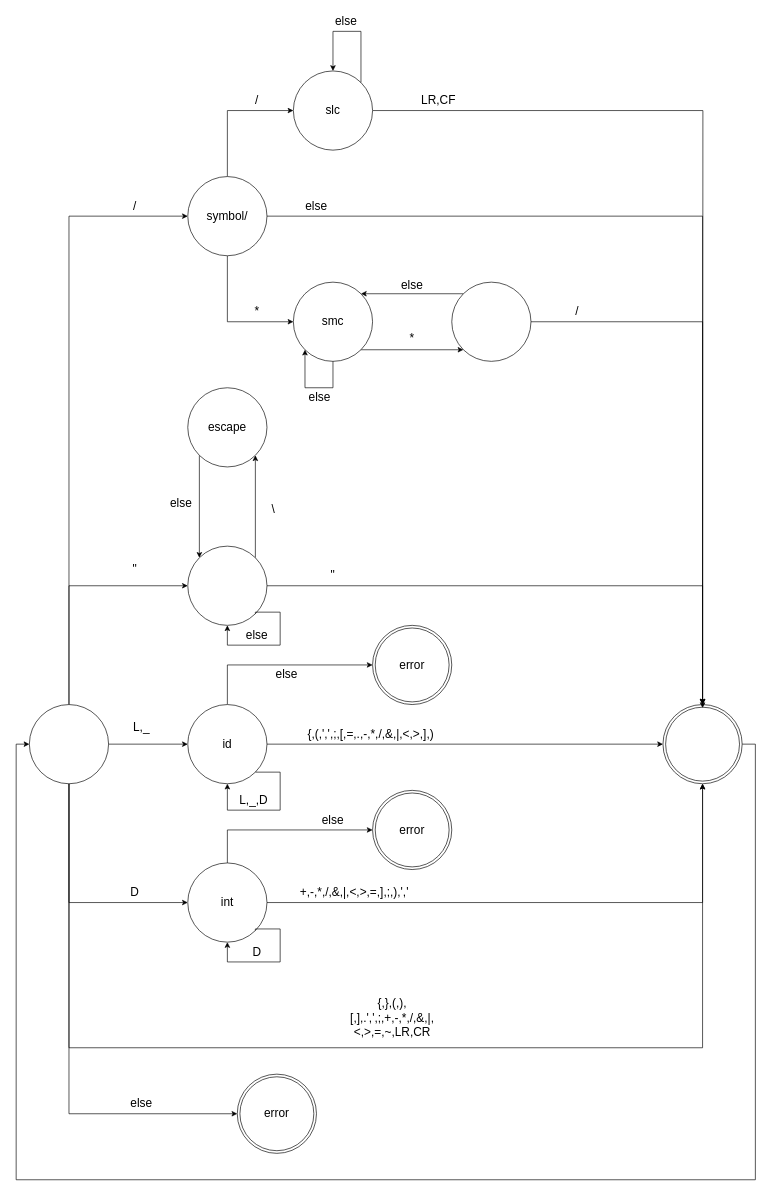
This 772x1197 diagram has some shape labels left out. The centre of each missing label's shape, as x and y in pixels:
"Done" goes at point 702,744.
"mmc" goes at point 491,321.
"Start" goes at point 69,744.
"string" goes at point 227,585.
